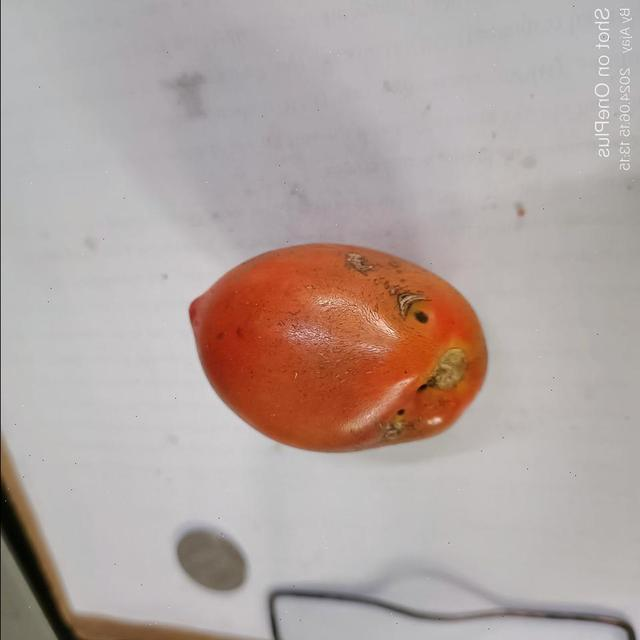Bacterial Spot Fruit: (6, 4, 283, 275)
